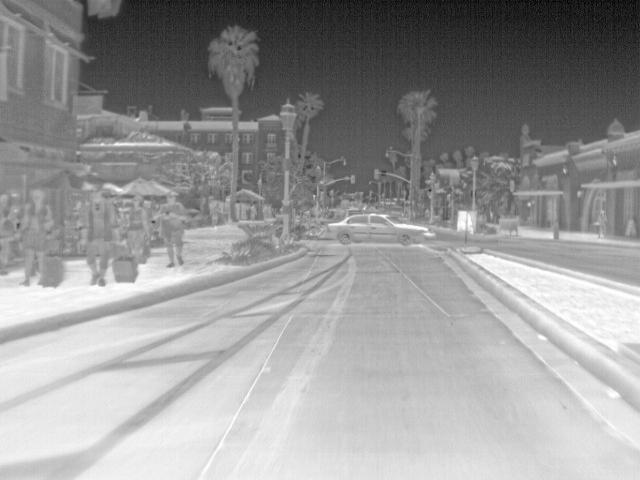car: (326, 211, 437, 247)
person: (77, 190, 124, 286), (17, 189, 55, 289), (152, 191, 190, 268), (126, 196, 150, 265), (594, 209, 609, 240)
